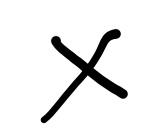mult: (40, 29, 128, 123)
